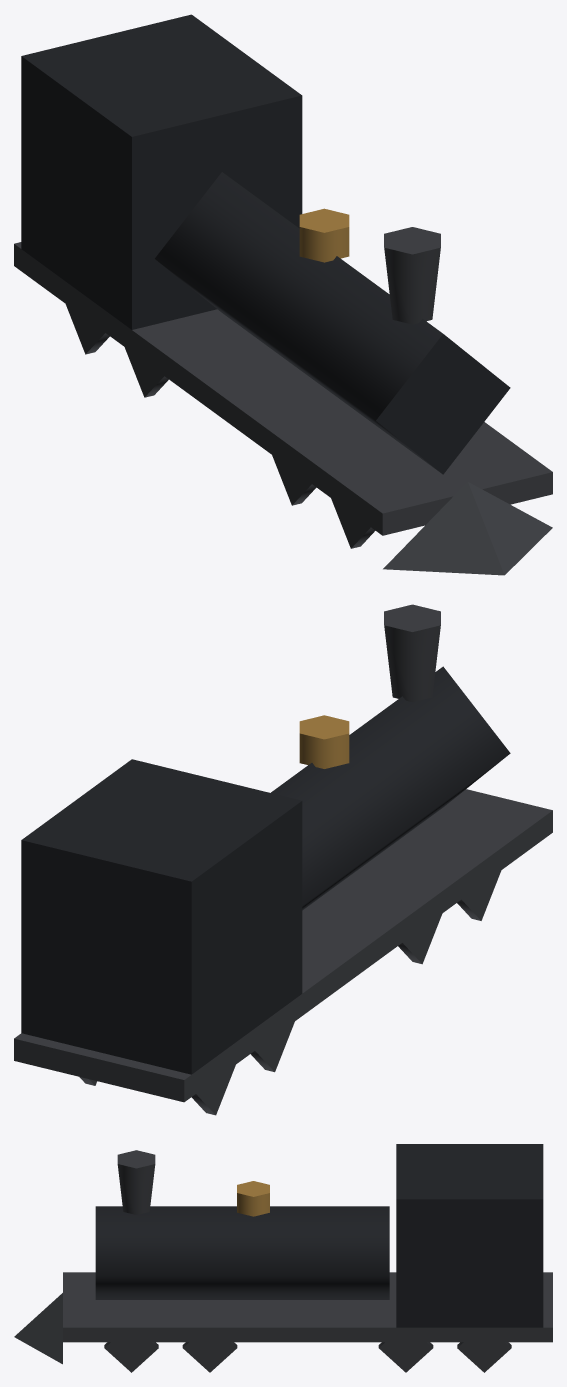
The model's file is veh_ground_locomotive_a05_lod2.glb.
3 renders of one model, top to bottom at view 1: azimuth 30°, elevation 25°; view 2: azimuth 150°, elevation 25°; view 3: azimuth 270°, elevation 25°, orthographic. The views are drawn at different scales.
Visible parts, largest first — view 1: body, wheel_2, wheel_4, wheel_0, wheel_6; view 2: body, wheel_2, wheel_0, wheel_6, wheel_4; view 3: body, wheel_3, wheel_5, wheel_1, wheel_7.
Part boxes in pixels (x1,y1,x2,y2): body: (14,14,552,575); wheel_2: (124,347,168,397); wheel_4: (272,455,316,505); wheel_0: (65,304,109,354); wheel_6: (331,498,375,548); body: (14,604,552,1102); wheel_2: (251,1021,294,1072); wheel_0: (191,1065,235,1115); wheel_6: (457,870,501,920); wheel_4: (398,913,442,964); body: (14,1144,552,1364); wheel_3: (378,1342,433,1372); wheel_5: (182,1342,237,1372); wheel_1: (457,1342,511,1372); wheel_7: (104,1342,158,1372).
Size of the model in its own units: 2.4 by 3.9 by 9.9.
